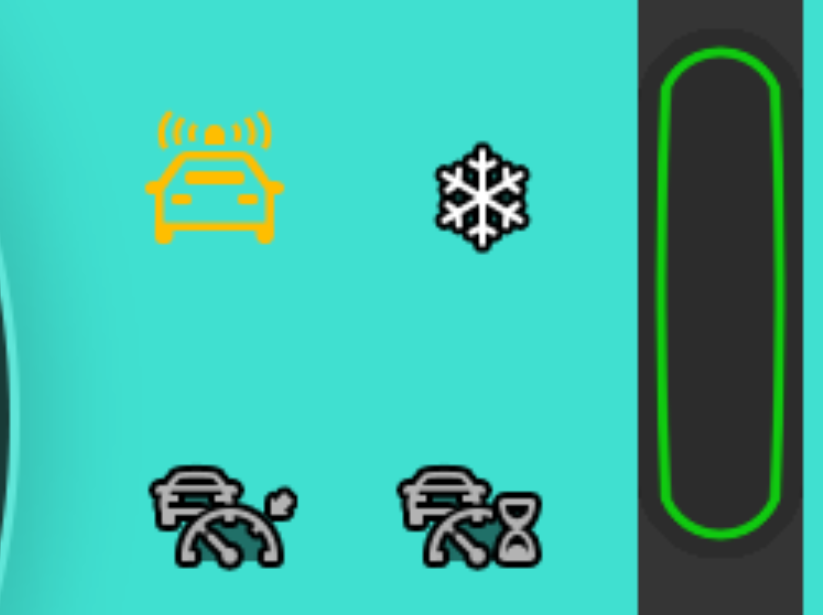ACC_AKTIV: (116, 434, 338, 587)
ACC_WAITING: (372, 438, 567, 583)
EISSTERN: (411, 119, 558, 276)
SEV_INF: (117, 83, 313, 266)
SLIDER: (635, 29, 805, 569)
